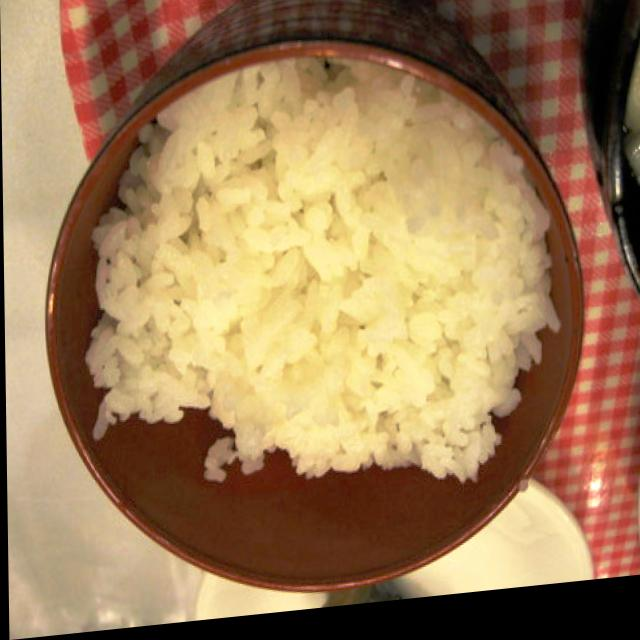rice: (81, 30, 561, 527)
